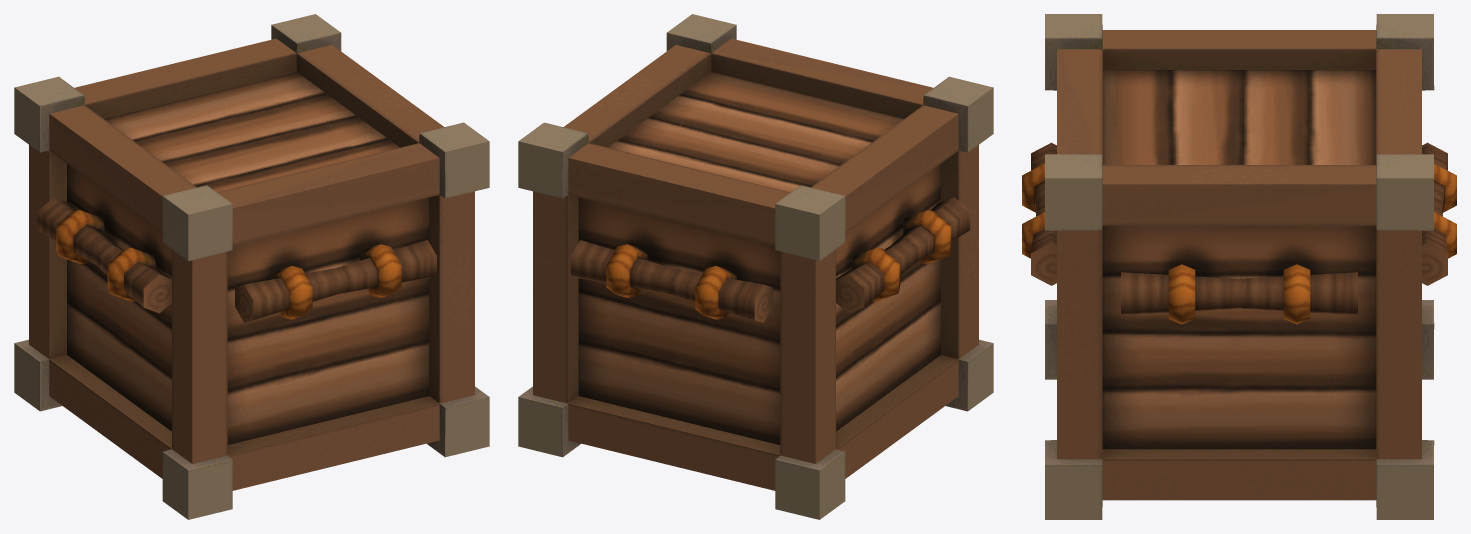
Rendered from Y-CaisseNeutre.FBX.
3 views of the same model, side by side, from view 1: azimuth 30°, elevation 25°; view 2: azimuth 150°, elevation 25°; view 3: azimuth 270°, elevation 25° (orthographic). The views are drawn at different scales.
Visible parts, largest first — view 1: Y-CaisseNeutre3; view 2: Y-CaisseNeutre3; view 3: Y-CaisseNeutre3.
Part boxes in pixels (left/top/right/bottom): Y-CaisseNeutre3: left=14, top=14, right=489, bottom=519; Y-CaisseNeutre3: left=518, top=14, right=993, bottom=519; Y-CaisseNeutre3: left=1022, top=14, right=1456, bottom=519.
Size of the model in its own units: 2.03 by 1.76 by 2.03.
